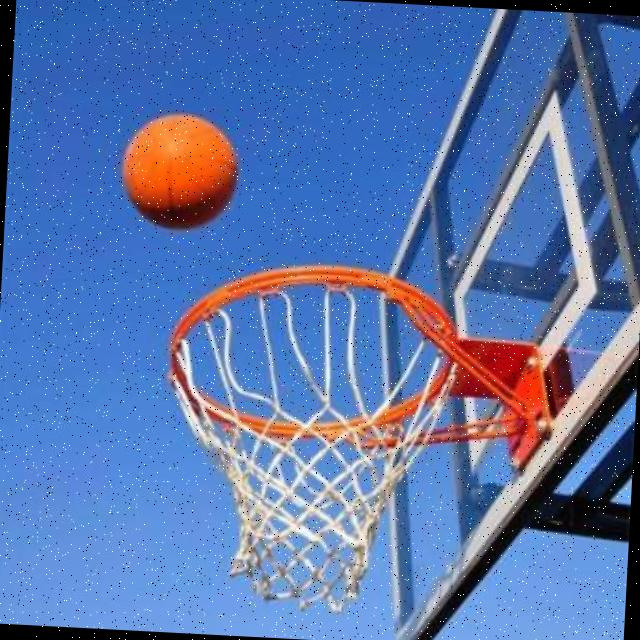ball: (117, 110, 240, 232)
hoop: (167, 260, 471, 440)
